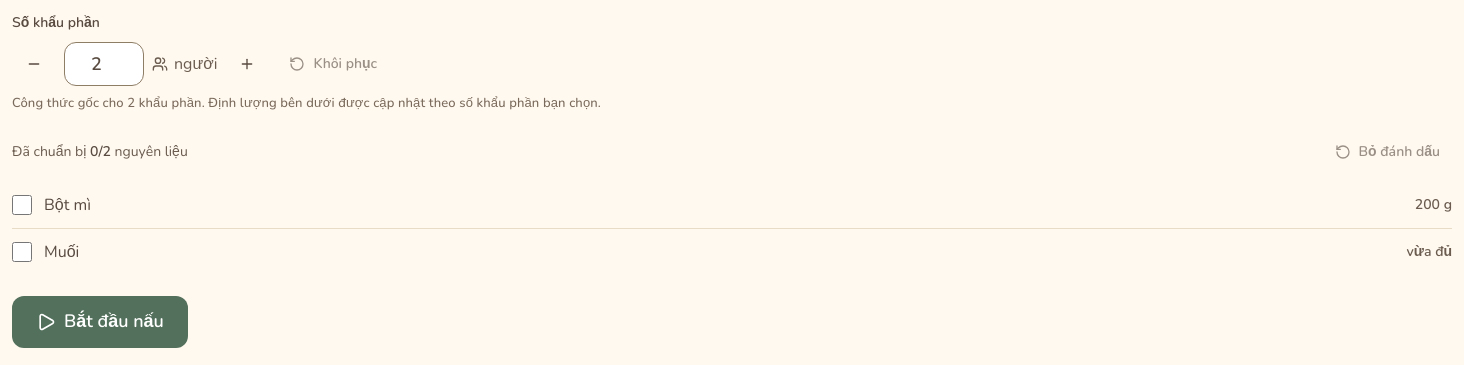
P09 — CookingExperience (tích hợp) › đánh dấu nguyên liệu và lưu vào localStorage
Click the checkbox labelled "Bột mì" at {"x": 22, "y": 205}, box [12,195,32,215]
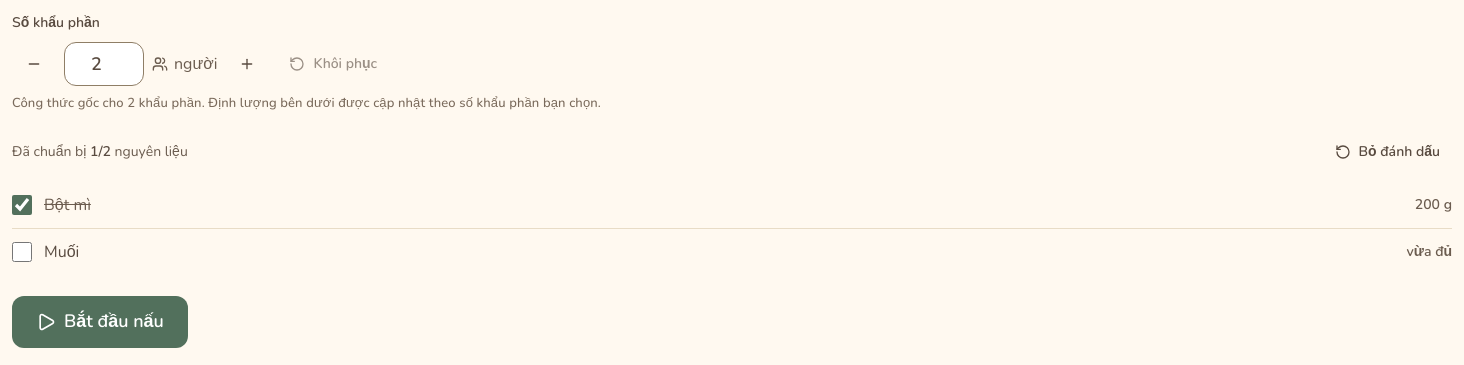
Expected: the text "Đã chuẩn bị 1/2 nguyên liệu" is shown, [12,141,188,163]
